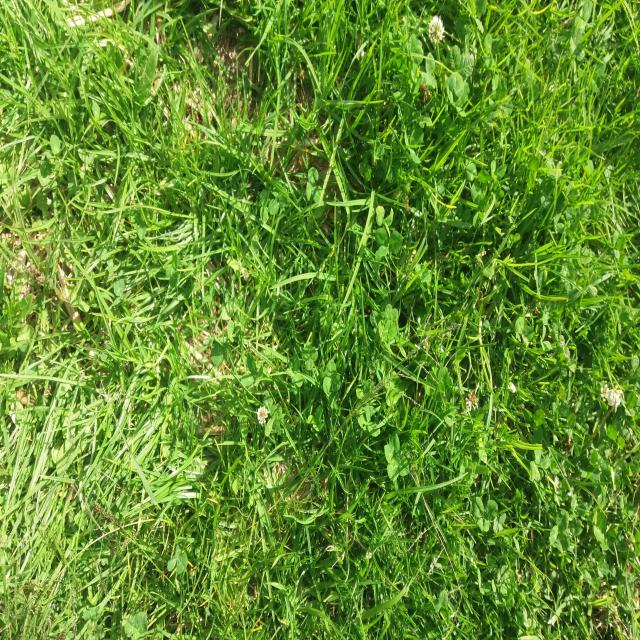Four Leaf Clover: (384, 431, 409, 481)
